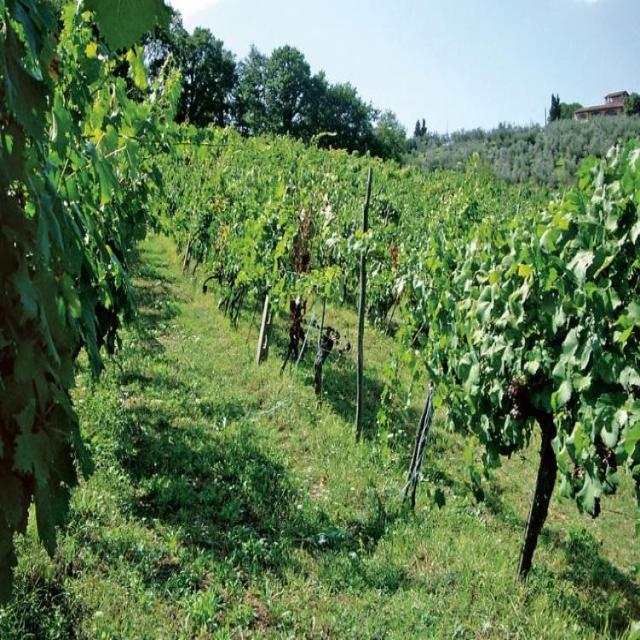row: (7, 230, 557, 624)
